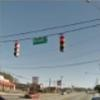traffic lights: (14, 43, 20, 57), (60, 36, 65, 52)
